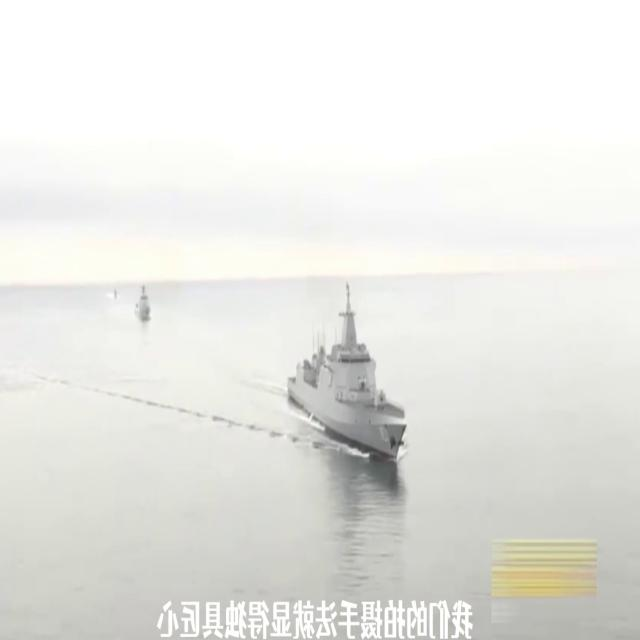navalvessels: (286, 280, 411, 455), (134, 281, 152, 321)
